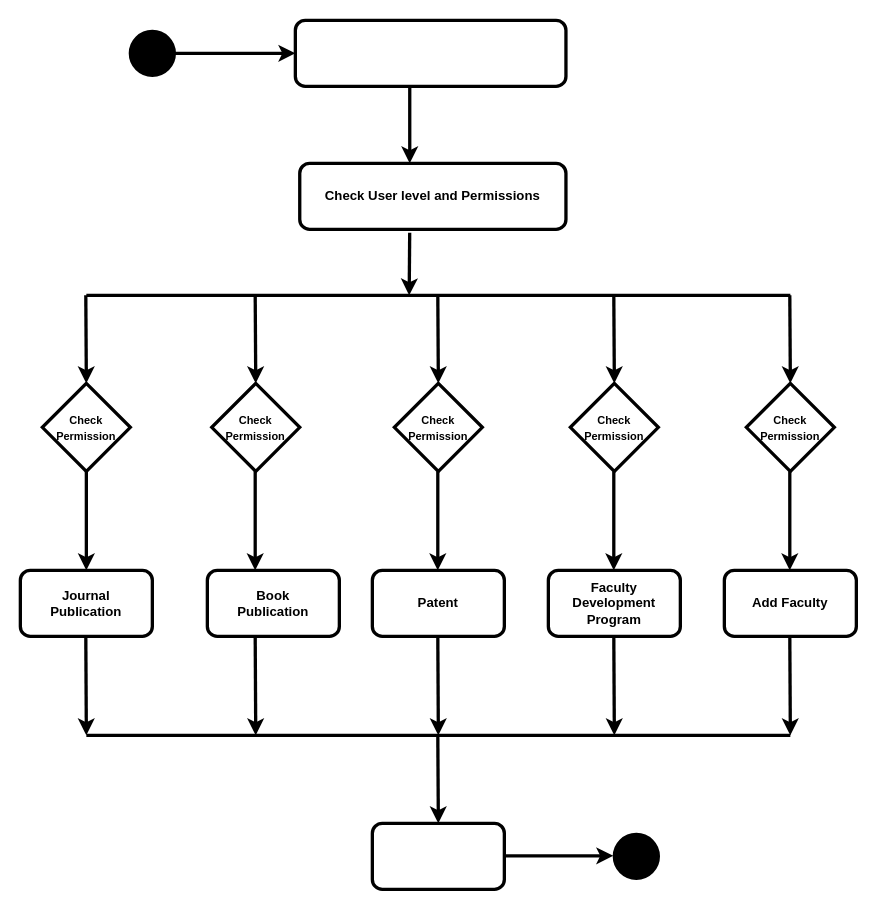
The diagram is 877 pixels wide and 910 high, and some of its shapes have lost their labels. Here are the shapes that lost their labels. From the top down, the box of each, then its label:
(293, 18, 567, 87): Login to the Faculty Contribution Management System
(370, 821, 505, 890): Logout from the system
